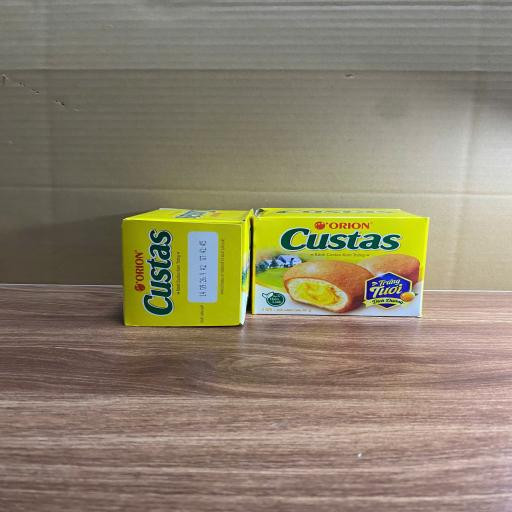custas: (252, 208, 429, 317), (122, 208, 256, 326)
